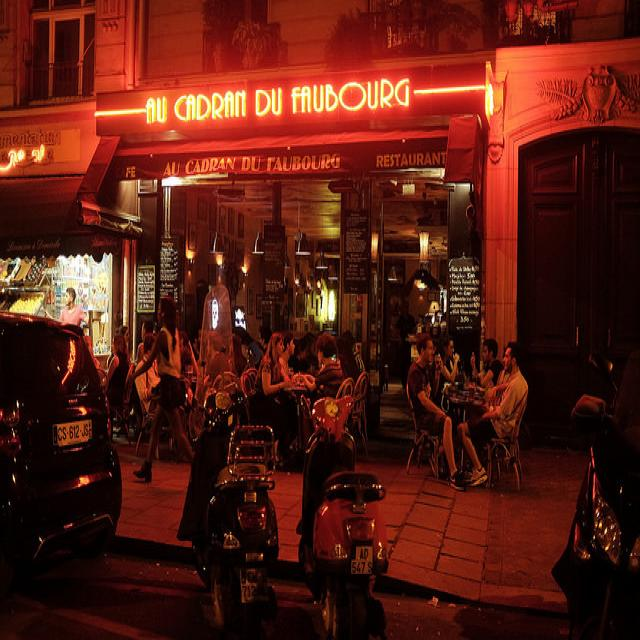Motorbike: (297, 411, 413, 614), (178, 362, 281, 588)
